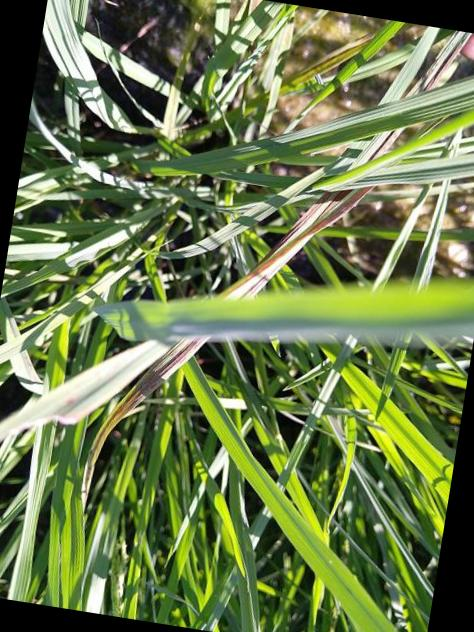Leaf Streak: (82, 339, 201, 499), (223, 187, 368, 297), (414, 31, 472, 94), (362, 126, 405, 163)
